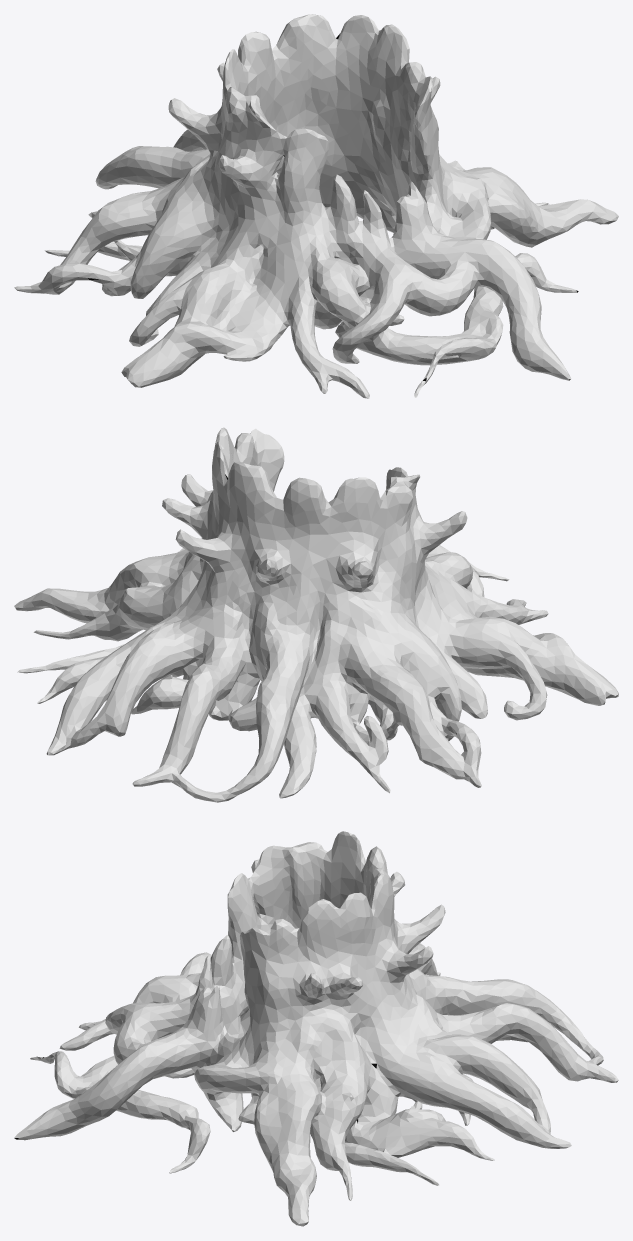
Rendered from stump03.glb.
3 renders of one model, top to bottom at view 1: azimuth 30°, elevation 25°; view 2: azimuth 150°, elevation 25°; view 3: azimuth 270°, elevation 25°, orthographic. The views are drawn at different scales.
Visible parts, largest first — view 1: Low; view 2: Low; view 3: Low.
Part boxes in pixels (x1,y1,x2,y2): Low: (14, 14, 618, 398); Low: (14, 427, 618, 802); Low: (14, 831, 618, 1226).
Bounding box in the file's own units: 1.9 × 0.8235 × 1.92.
Materials: 1 (1 with a texture image).
